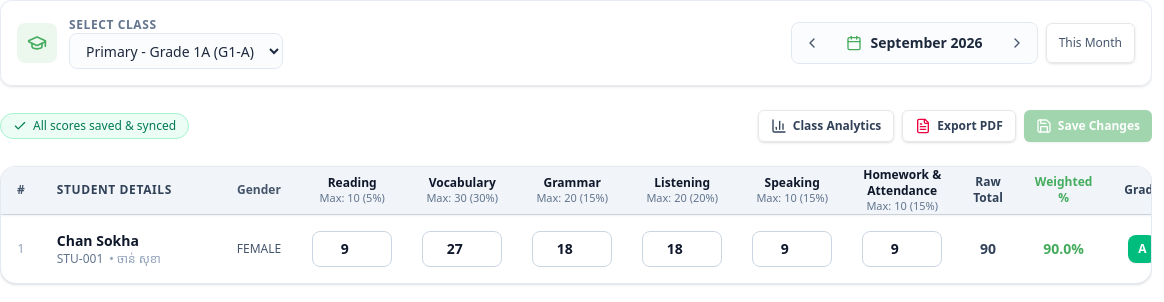
Test: GradebookMatrix › disables the save button and shows warning when input score exceeds max points
The image size is (1164, 302).
Expected: the button "Chan Sokha" is shown, [57, 231, 205, 251]
Note: Max score for reading is 10. Enter 15 (exceeds max)
Replace the text in the 1st number field with "15" at (352, 249), box [312, 231, 392, 267]
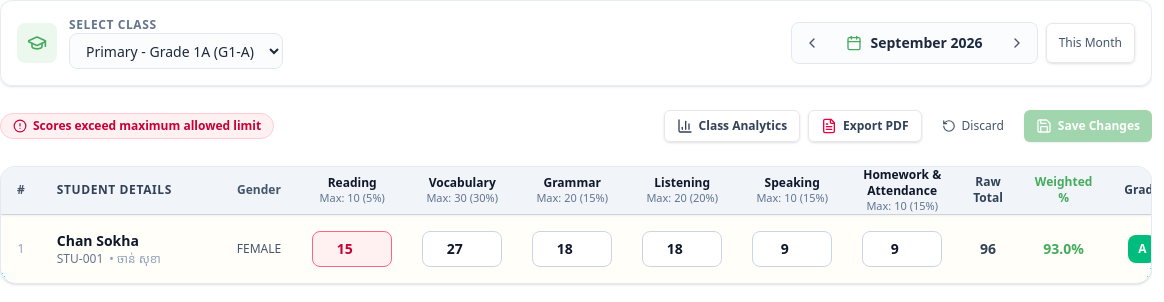
Expected: the button "Save Changes" is disabled, [1024, 110, 1152, 142]
Result: the text "Scores exceed maximum allowed limit" is shown at [0, 113, 274, 139]
Note: Now change it back to valid score 8
Replace the text in the 1st number field with "8" at (352, 249), box [312, 231, 392, 267]
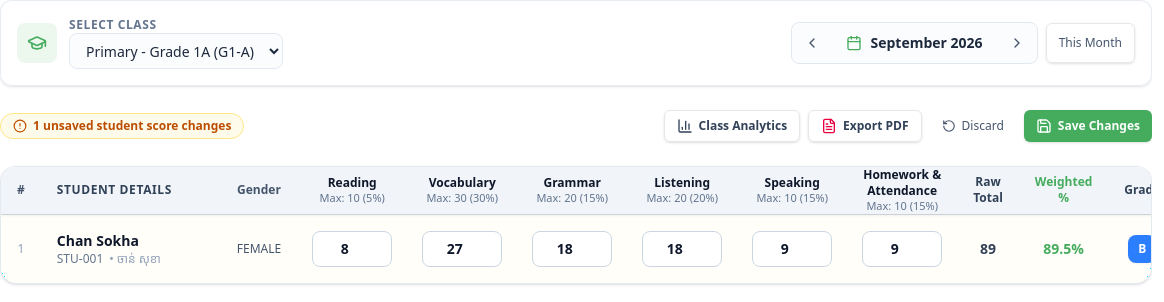
Result: the button "Save Changes" is enabled at [1024, 110, 1152, 142]
